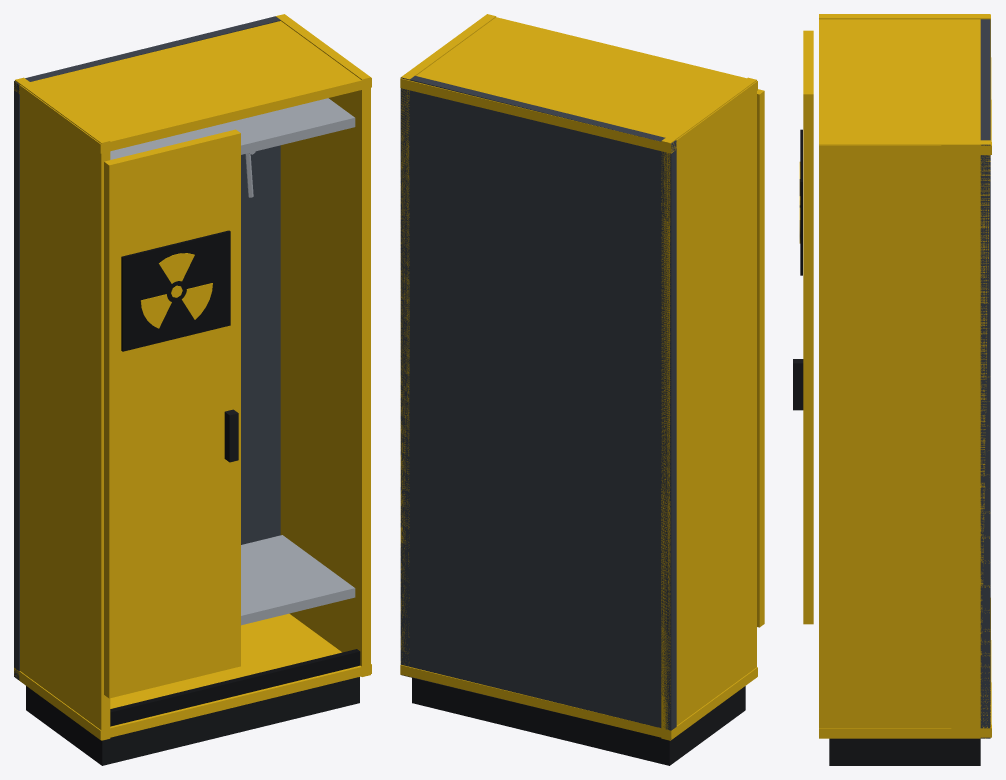
File: safety_hazmat_cabinet.glb
The picture shows the model from 3 angles, left to right: view 1: azimuth 30°, elevation 25°; view 2: azimuth 150°, elevation 25°; view 3: azimuth 270°, elevation 25°; orthographic projection.
Visible parts, largest first — view 1: safety_hazmat_cabinet; view 2: safety_hazmat_cabinet; view 3: safety_hazmat_cabinet.
Part boxes in pixels (left/top/right/bottom): safety_hazmat_cabinet: left=14, top=14, right=371, bottom=765; safety_hazmat_cabinet: left=400, top=14, right=764, bottom=765; safety_hazmat_cabinet: left=793, top=14, right=991, bottom=765.
Bounding box in the file's own units: 0.906 × 2 × 0.578.
